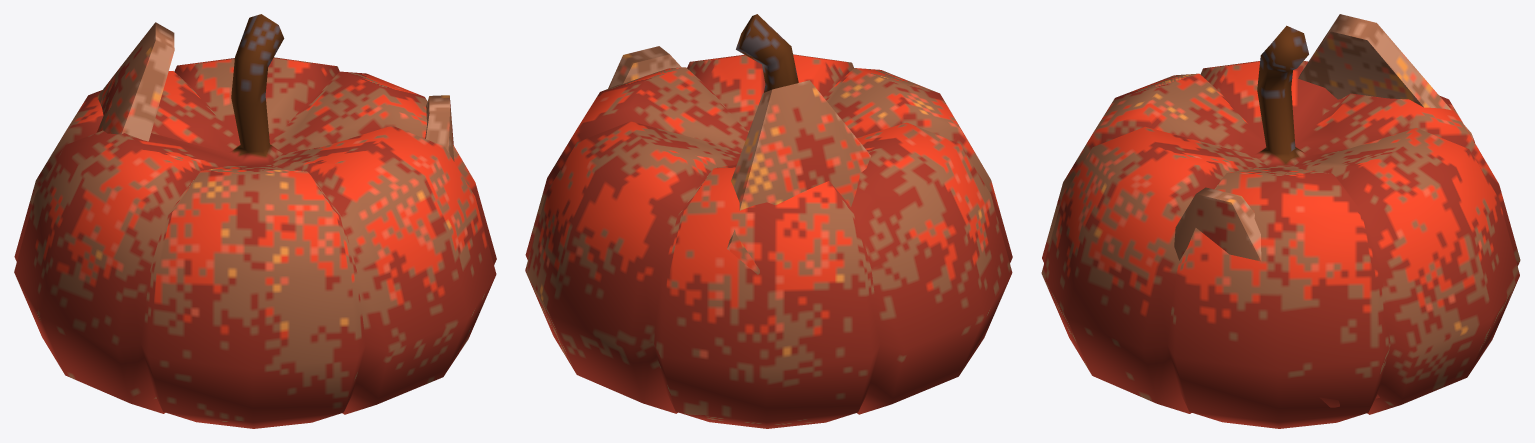
File: pumpkin.fbx
3 views of the same model, side by side, from view 1: azimuth 30°, elevation 25°; view 2: azimuth 150°, elevation 25°; view 3: azimuth 270°, elevation 25° (orthographic).
Visible parts, largest first — view 1: Pumpkin3.001, PumpkinPiece.001; view 2: Pumpkin3.001, PumpkinPiece.001; view 3: Pumpkin3.001, PumpkinPiece.001.
Boxes of the visible parts, x1,y1,x2,y2 form: Pumpkin3.001: (14,14,496,428); PumpkinPiece.001: (96,22,454,161); Pumpkin3.001: (525,14,1012,428); PumpkinPiece.001: (608,46,870,274); Pumpkin3.001: (1041,25,1520,428); PumpkinPiece.001: (1174,14,1474,407).
Size of the model in its own units: 25.99 by 20.09 by 25.33.
